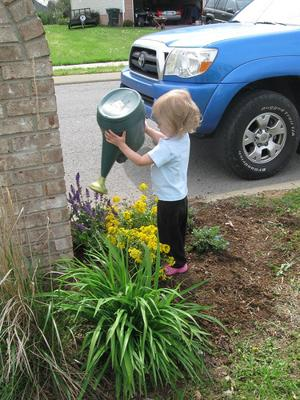person: (102, 87, 202, 281)
